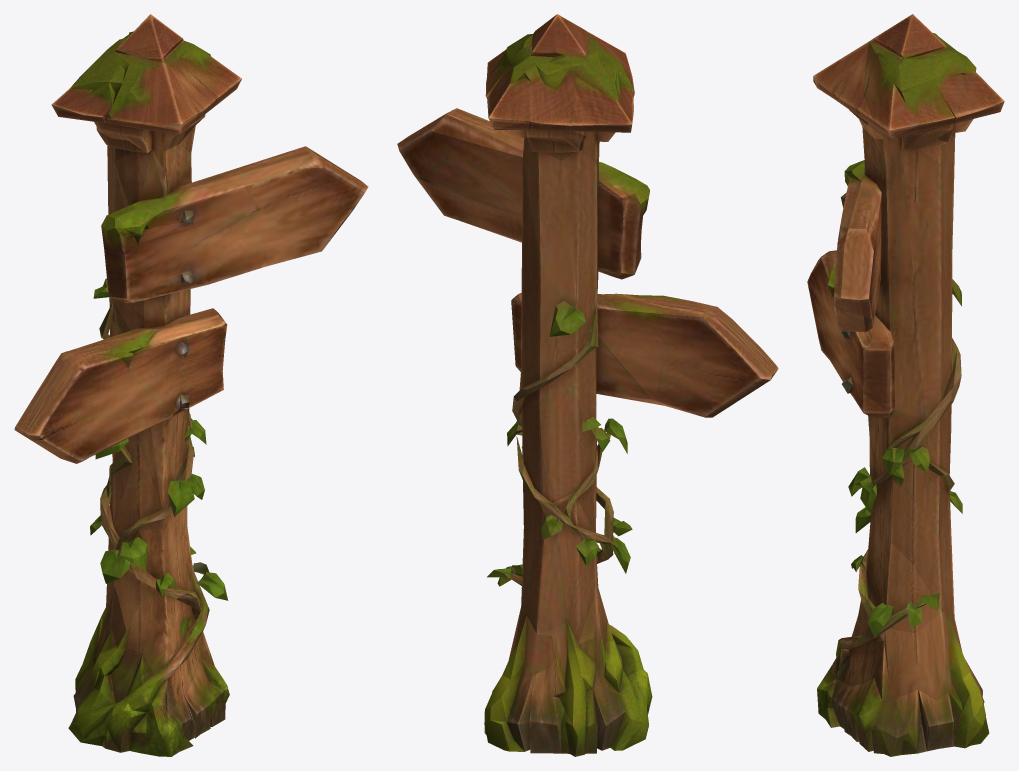
Rendered from PRP-006.glb.
3 renders of one model, left to right at view 1: azimuth 30°, elevation 25°; view 2: azimuth 150°, elevation 25°; view 3: azimuth 270°, elevation 25°, orthographic.
Visible parts, largest first — view 1: PRP-006; view 2: PRP-006; view 3: PRP-006.
Boxes of the visible parts, bbox=[...] form: PRP-006: bbox=[14, 14, 368, 756]; PRP-006: bbox=[397, 14, 778, 756]; PRP-006: bbox=[807, 14, 1004, 756].
Bounding box in the file's own units: 1.07 × 2 × 0.5022.
Materials: 1 (1 with a texture image).
